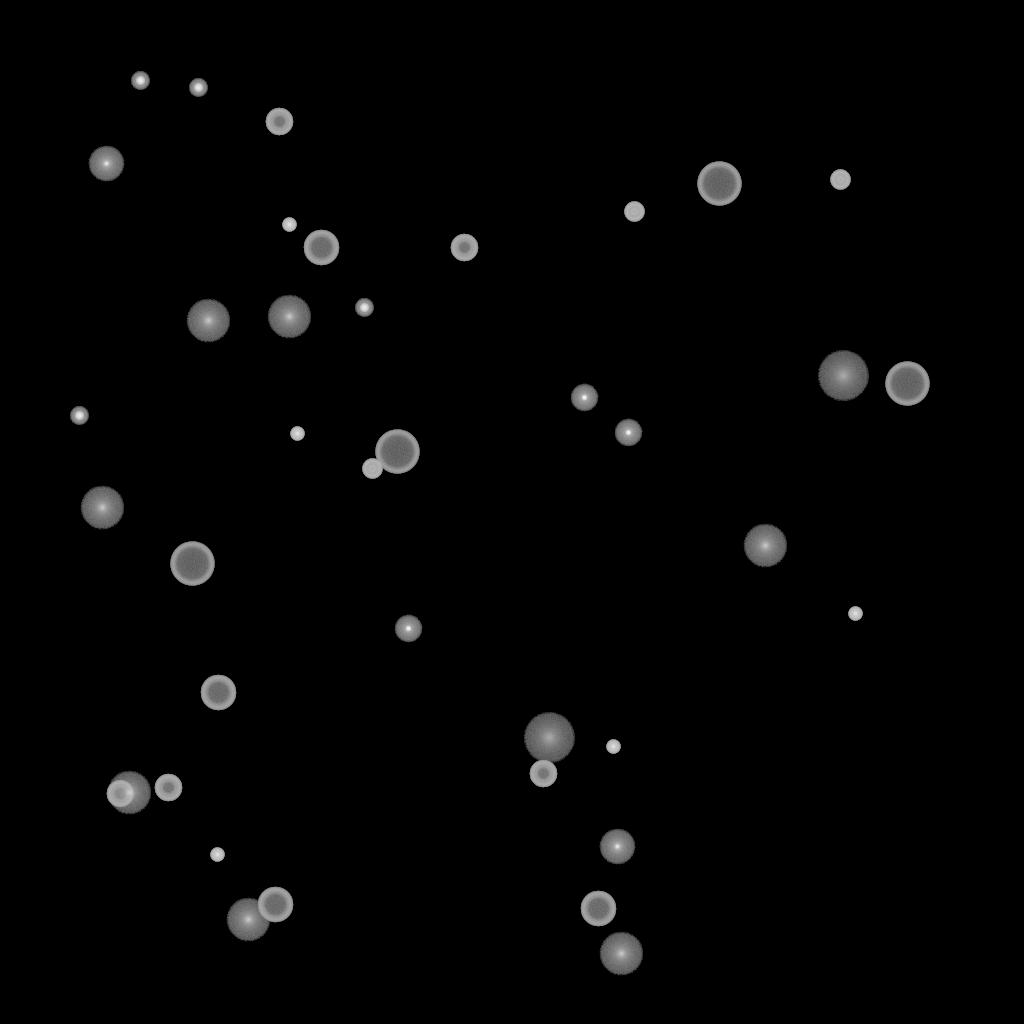depth:-10: (614, 419, 642, 447), (394, 615, 422, 643), (570, 384, 598, 412)
depth:-20: (355, 299, 373, 317), (70, 407, 88, 425), (131, 72, 149, 90), (189, 79, 207, 97)
depth:-30: (606, 740, 620, 754), (210, 848, 224, 862), (848, 607, 862, 621), (290, 427, 304, 441), (282, 218, 296, 232)
depth:-40: (830, 170, 850, 190), (362, 459, 382, 479), (624, 202, 644, 222)
depth:-50: (154, 774, 182, 802), (265, 108, 293, 136), (529, 760, 557, 788), (106, 780, 134, 808), (450, 234, 478, 262)
depth:-60: (303, 230, 339, 266), (257, 887, 293, 923), (580, 891, 616, 927), (200, 675, 236, 711)
depth:-70: (375, 430, 419, 474), (170, 542, 214, 586), (885, 362, 929, 406), (697, 162, 741, 206)
depth:0: (88, 146, 124, 182), (599, 829, 635, 865)
depth:10: (80, 486, 124, 530), (226, 898, 270, 942), (267, 295, 311, 339), (743, 524, 787, 568), (599, 932, 643, 976), (107, 771, 151, 815), (186, 299, 230, 343)
depth:20: (817, 351, 869, 401), (523, 713, 575, 763)
